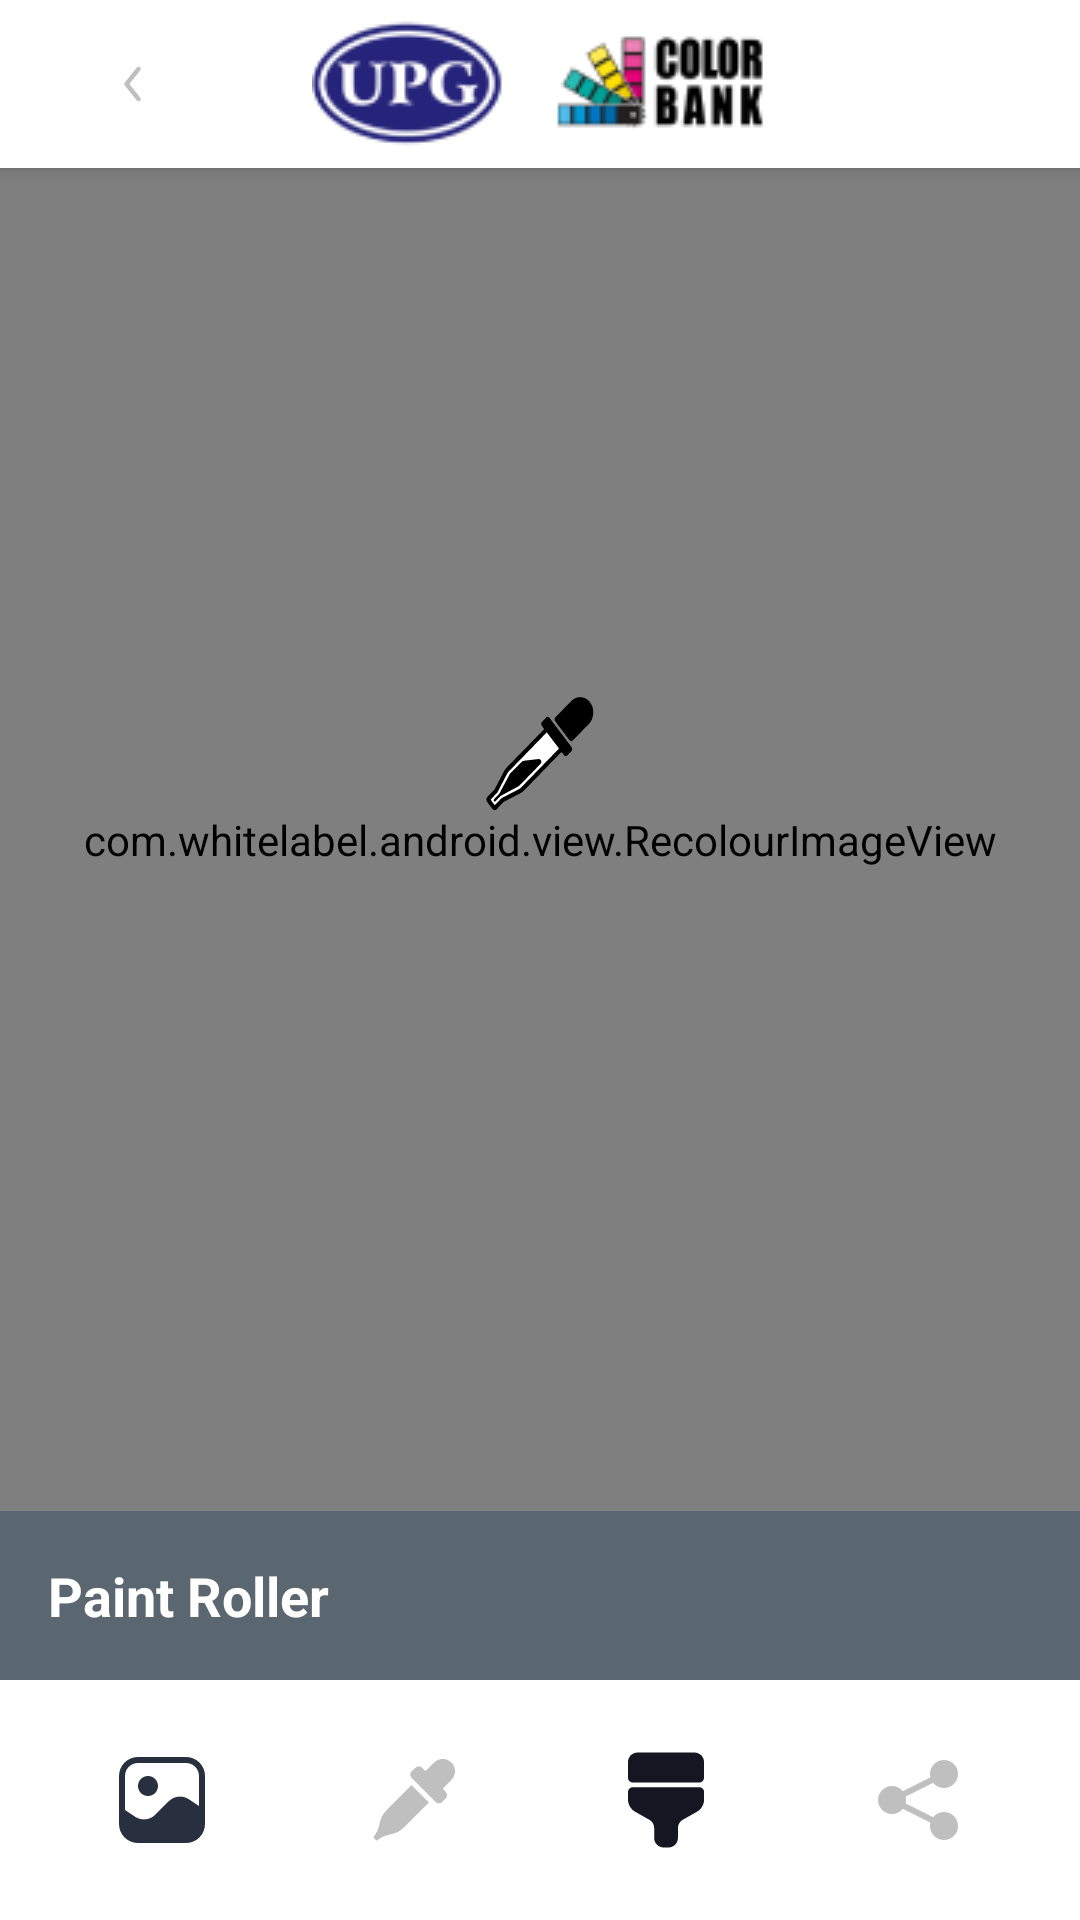

Point at icon controls on the screen. Image size 1080 × 1920, points as (x=x, y=y).
Back: (x=132, y=84)
Paint Roller: (x=666, y=1800)
Share: (x=918, y=1800)
